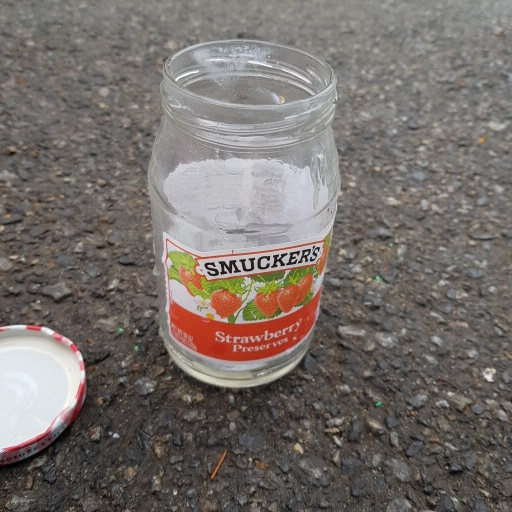Glass_5: (138, 36, 345, 385)
